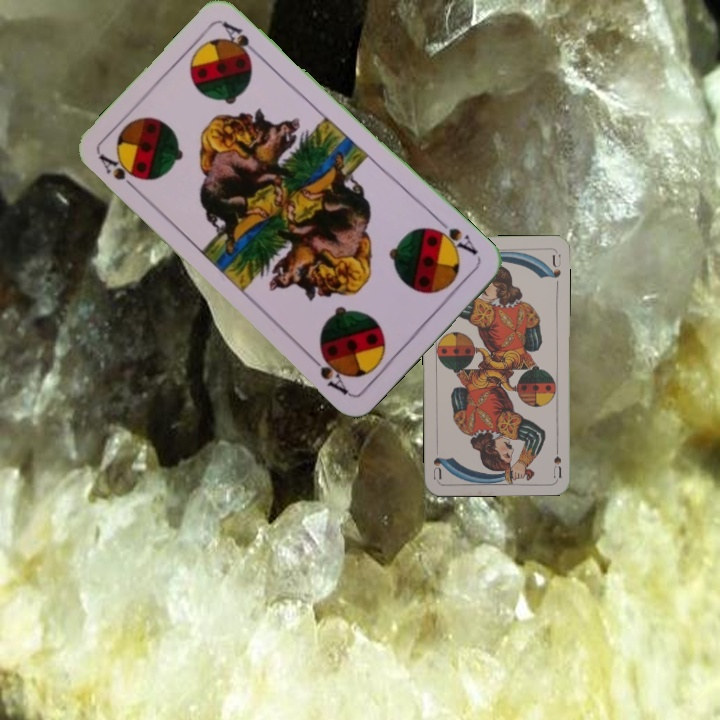SA: (428, 215, 481, 258), (95, 150, 144, 196)
SU: (550, 438, 564, 479)
